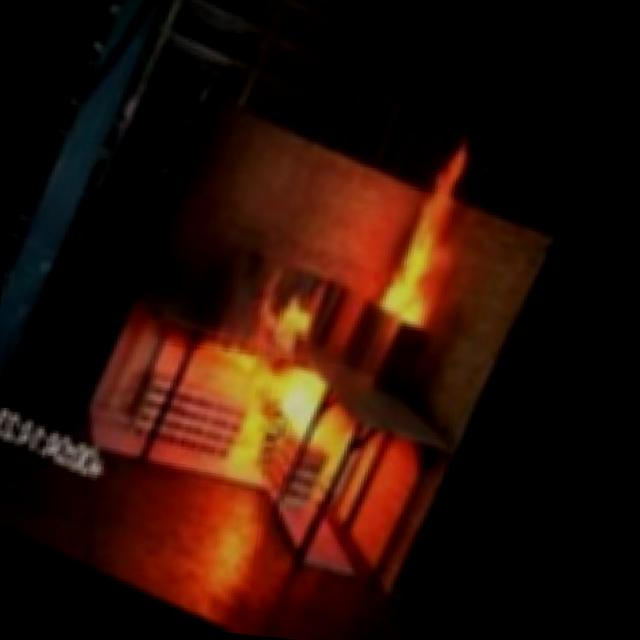fire: (165, 274, 408, 520), (326, 104, 538, 379)
